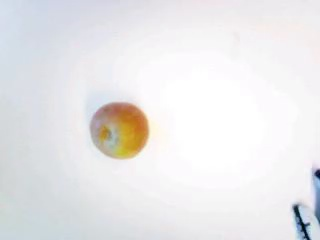apple: (88, 102, 148, 160)
